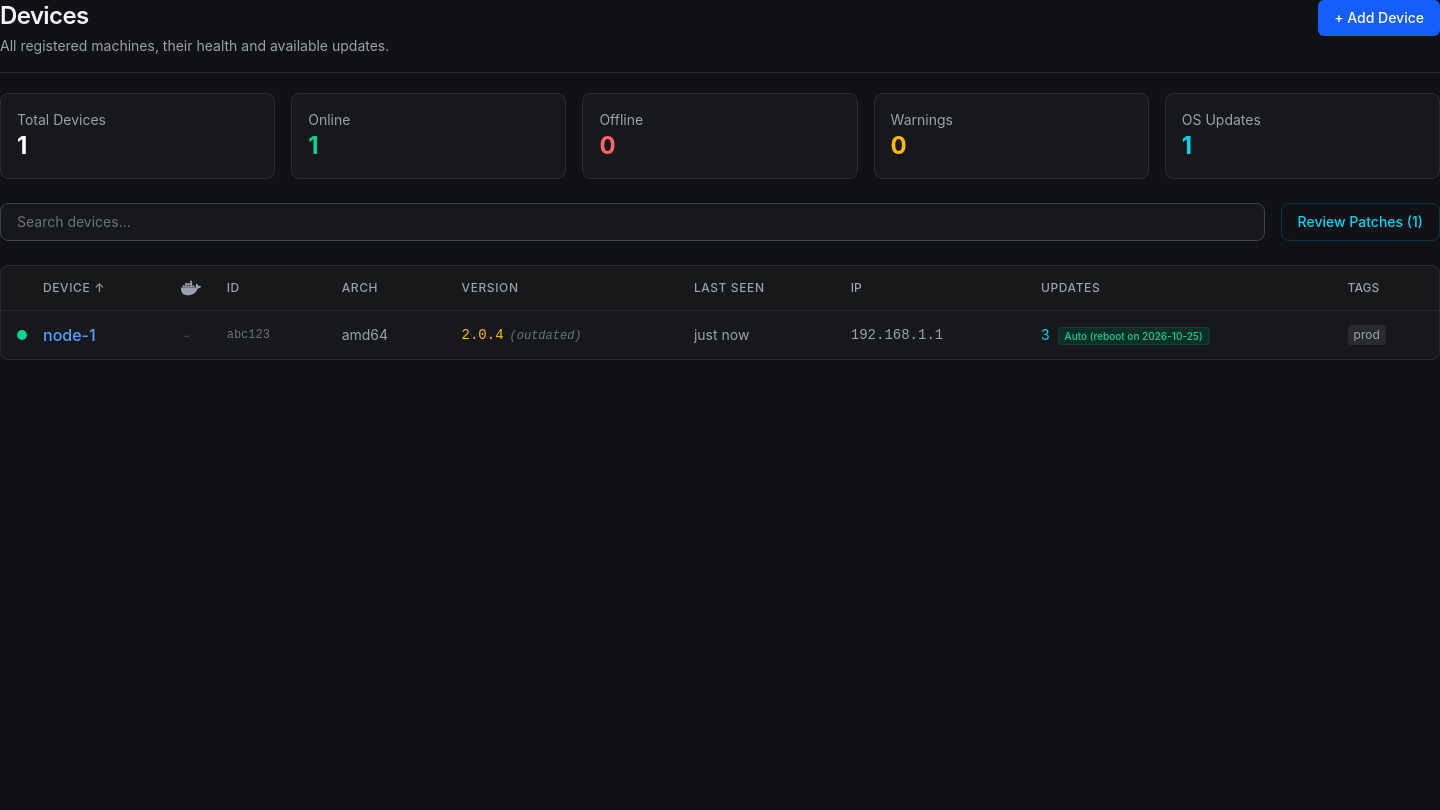
Test case: patch badge on the Devices rows › shows the same label in the Review Patches panel as in the row
Click the button "Review Patches (1)". click: x=1360, y=222
box: [1281, 203, 1439, 241]
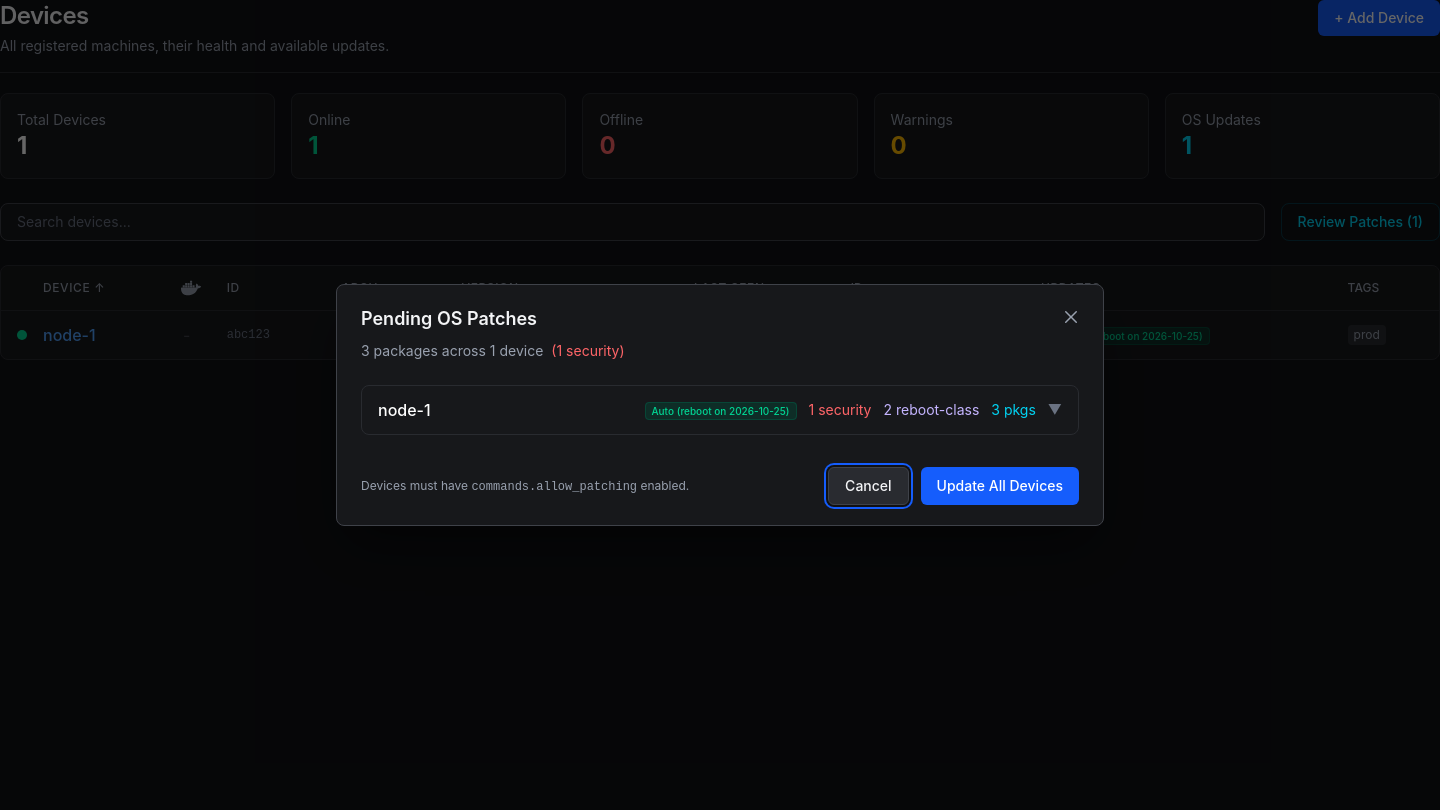
Check: the text "2 reboot-class" is shown, box [884, 400, 979, 420]
Check: the elements with test id "patch-badge" read "Auto (reboot on 2026-10-25)", "Auto (reboot on 2026-10-25)", in this order, box [1058, 327, 1210, 345]; [644, 402, 796, 420]
